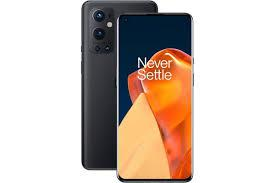Smartphone: (114, 11, 193, 183), (81, 3, 159, 171)
